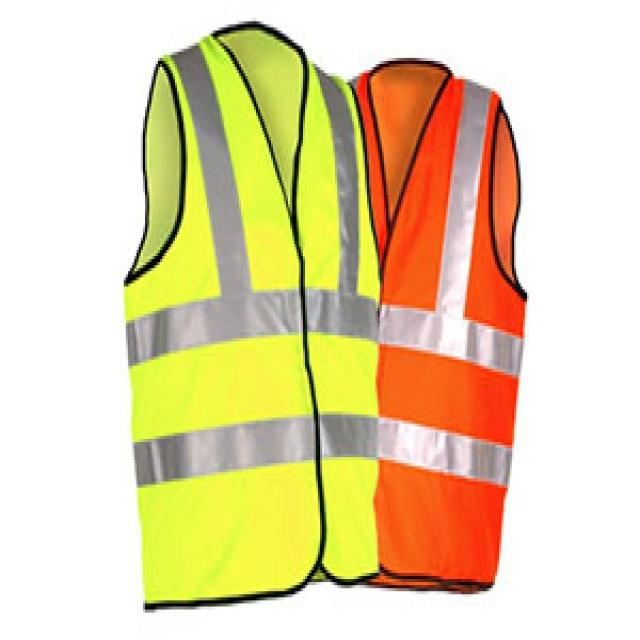vest: (116, 29, 383, 640), (351, 73, 532, 640)
